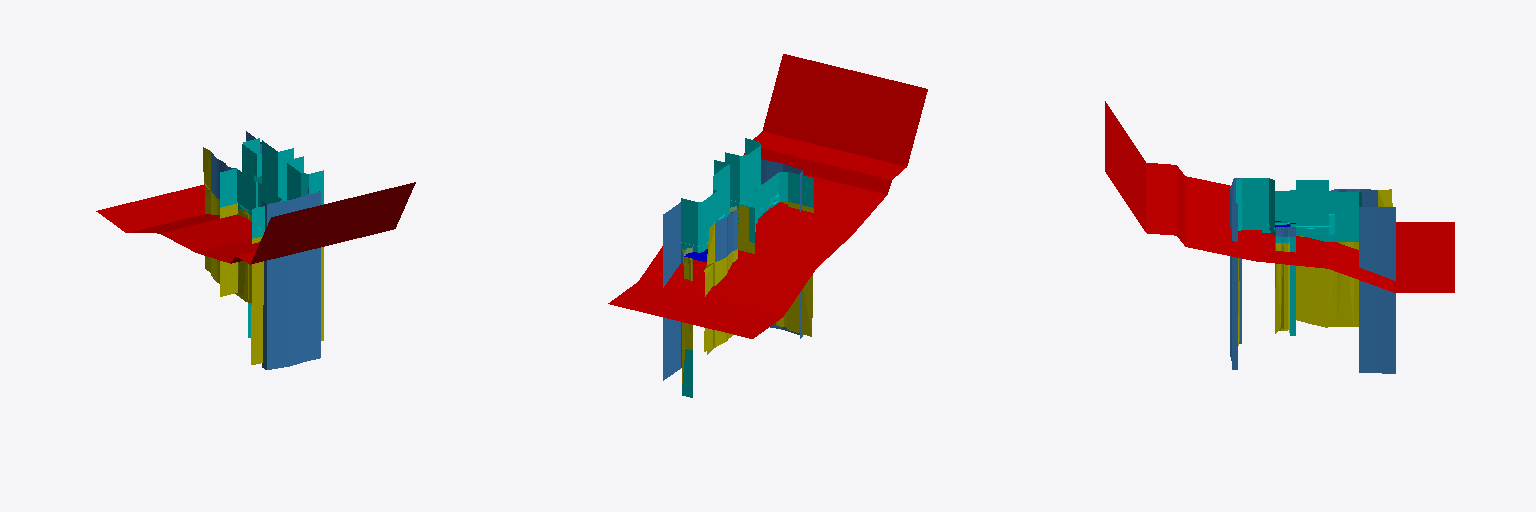
The model's file is STG0100_COLI_02.OBJ.
3 views of the same model, side by side, from view 1: azimuth 30°, elevation 25°; view 2: azimuth 150°, elevation 25°; view 3: azimuth 270°, elevation 25° (orthographic).
Parts seen in each view (by area): view 1: STG0100_COLI_02_[number redacted], STG0100_COLI_02_[number redacted], STG0100_COLI_02_[number redacted], STG0100_COLI_02_[number redacted]; view 2: STG0100_COLI_02_[number redacted], STG0100_COLI_02_[number redacted], STG0100_COLI_02_[number redacted], STG0100_COLI_02_[number redacted]; view 3: STG0100_COLI_02_[number redacted], STG0100_COLI_02_[number redacted], STG0100_COLI_02_[number redacted], STG0100_COLI_02_[number redacted].
Boxes of the visible parts, x1,y1,x2,y2 form: STG0100_COLI_02_[number redacted]: [96, 182, 415, 264]; STG0100_COLI_02_[number redacted]: [211, 131, 320, 369]; STG0100_COLI_02_[number redacted]: [220, 138, 323, 337]; STG0100_COLI_02_[number redacted]: [203, 147, 323, 364]; STG0100_COLI_02_[number redacted]: [608, 54, 927, 338]; STG0100_COLI_02_[number redacted]: [681, 138, 813, 397]; STG0100_COLI_02_[number redacted]: [663, 159, 802, 380]; STG0100_COLI_02_[number redacted]: [682, 202, 813, 383]; STG0100_COLI_02_[number redacted]: [1105, 101, 1454, 292]; STG0100_COLI_02_[number redacted]: [1230, 178, 1395, 373]; STG0100_COLI_02_[number redacted]: [1236, 178, 1361, 335]; STG0100_COLI_02_[number redacted]: [1238, 189, 1392, 345].
Size of the model in its own units: 1709 by 2713 by 3578.